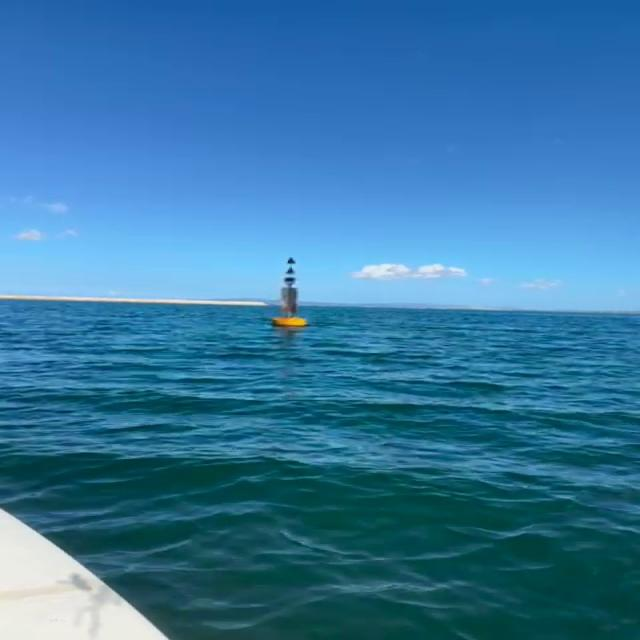marque: (257, 255, 317, 333)
